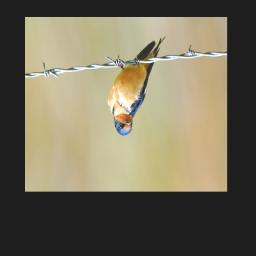Swallow: (106, 36, 166, 137)
